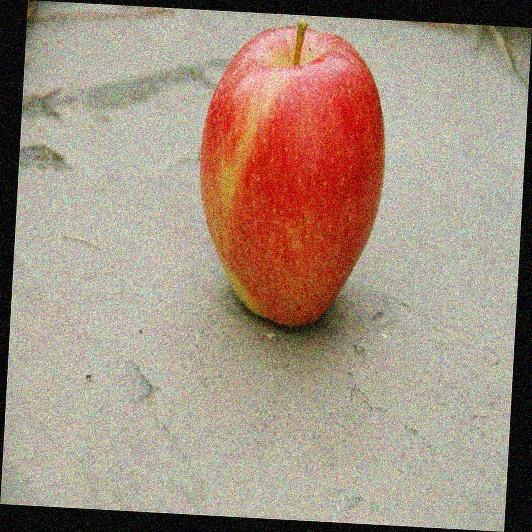red apple: (199, 22, 385, 325)
